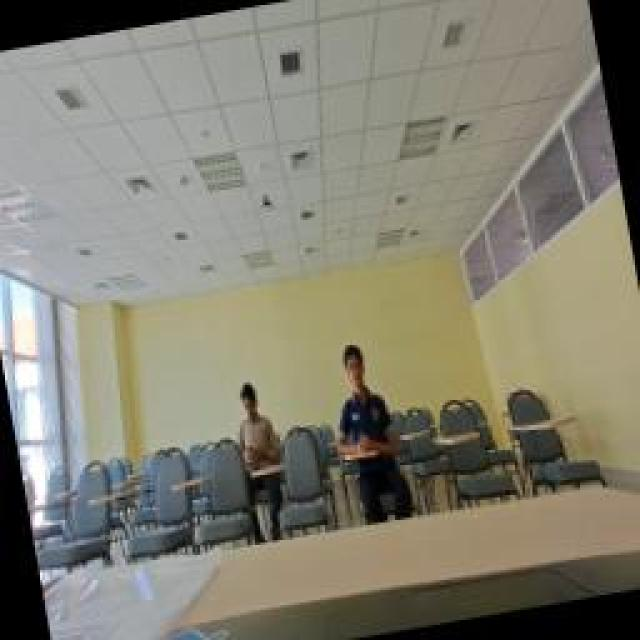phone: (228, 372, 280, 472)
study: (320, 338, 398, 462)
